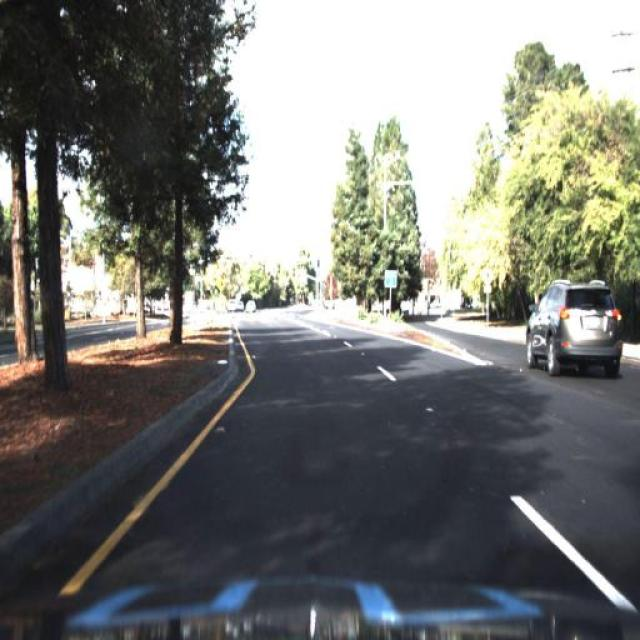car: (525, 277, 623, 377)
